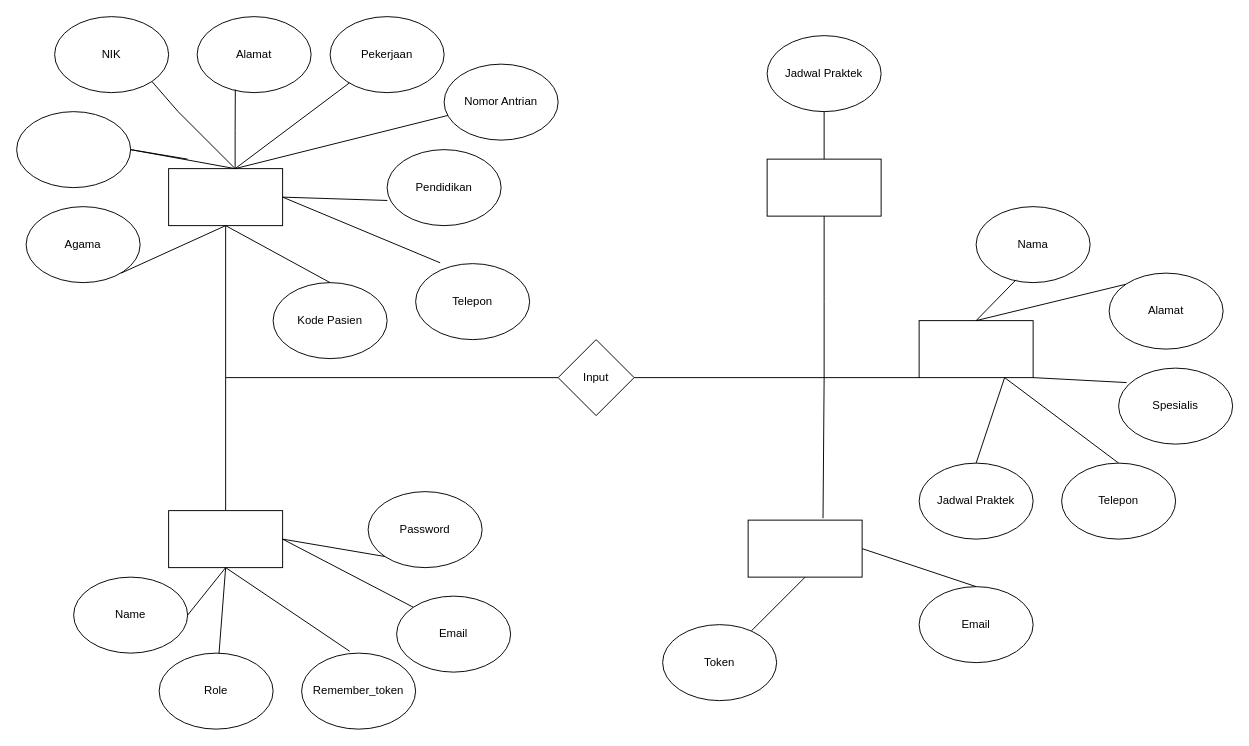
Image size: 1249x746. Some labels were removed from this diagram. Each missing label, with the centre of its shape:
"Dokter" goes at (x=975, y=349).
"Jadwal" goes at (x=823, y=187).
"Jenis Kelamin" goes at (x=73, y=149).
"Pasien" goes at (x=225, y=197).
"Password_resets" goes at (x=804, y=548).
"User" goes at (x=225, y=539).
